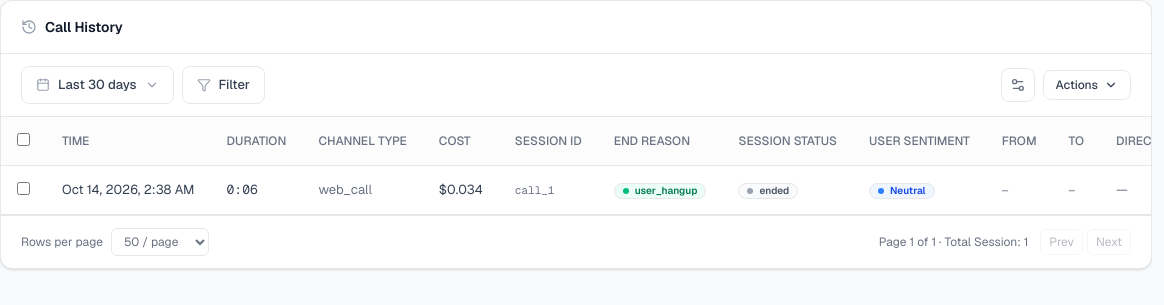
CallHistory › tracks row selection and reflects it in the selected count
This screenshot has width=1164, height=305.
Click the checkbox next to "Oct 14, 2026, 2:38 AM" at (24, 188), box [17, 182, 30, 194]
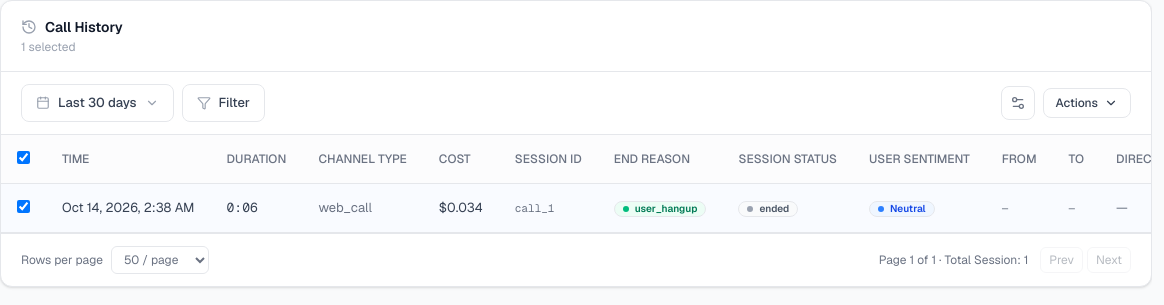
Now the text "1 selected" is shown, box [21, 39, 76, 55]
